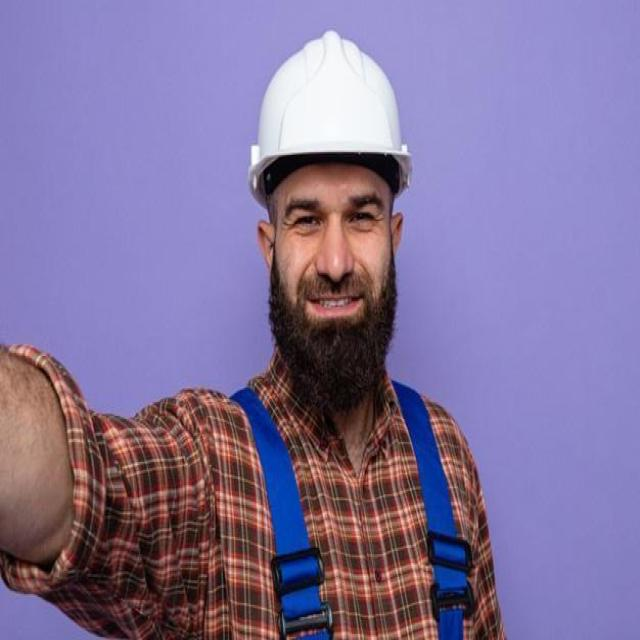helmet: (248, 31, 414, 198)
